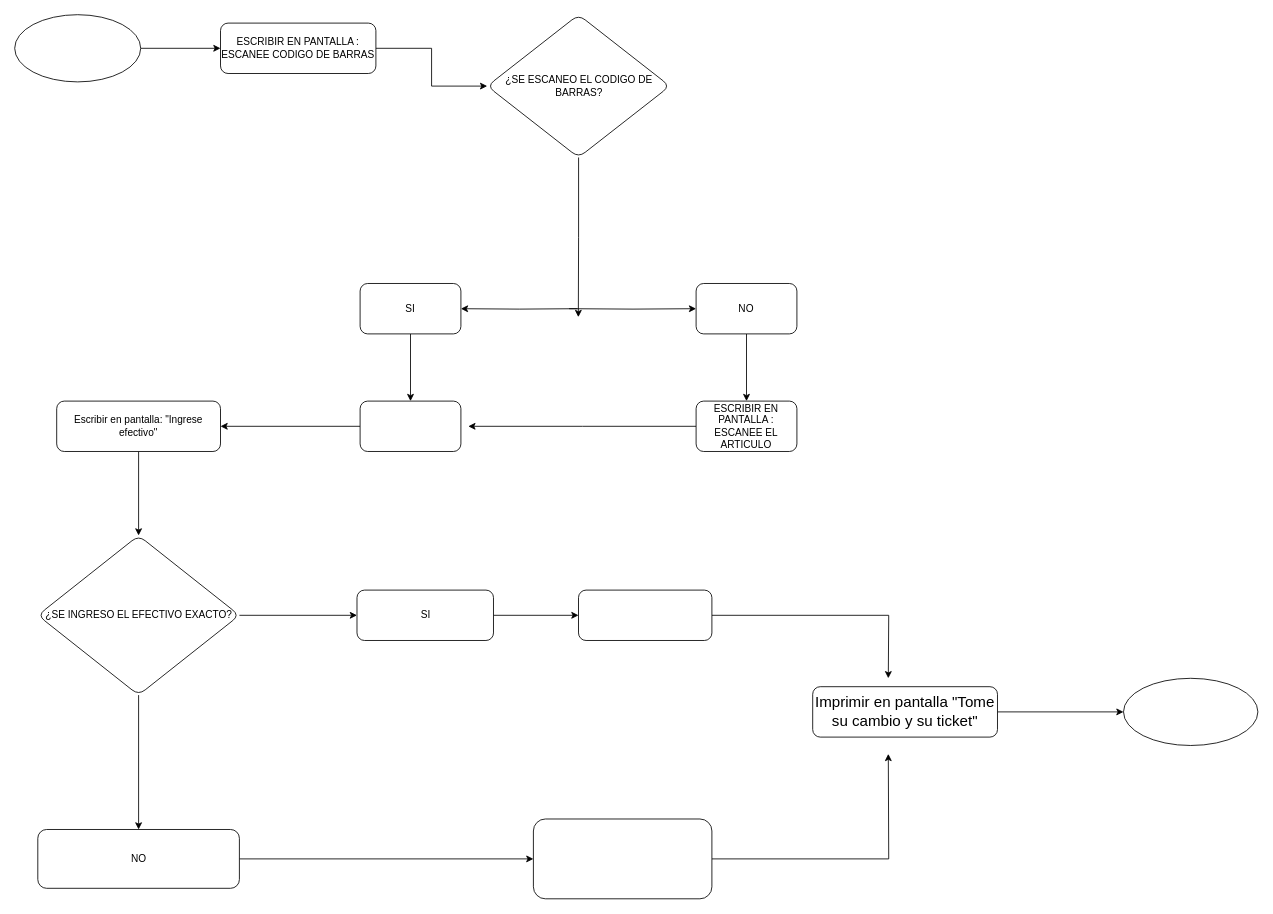
The diagram is 1273 pixels wide and 914 high, and some of its shapes have lost their labels. Each missing label, with the box of its shape:
FIN: (1123, 677, 1258, 746)
Imprimir en pantalla "Ingrese cantidad faltante": (533, 818, 712, 899)
Imprimir en pantalla: " costo $50.00": (359, 400, 461, 452)
Inicio: (14, 14, 141, 82)
RESTAR EL VALOR DEL EFECTIVO AL COSTO DEL ARTICULO: (578, 589, 712, 640)
